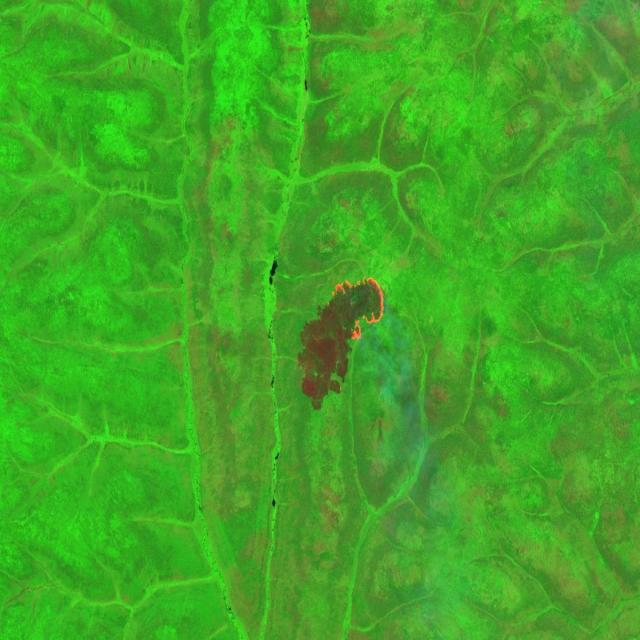fire: (333, 263, 393, 359)
